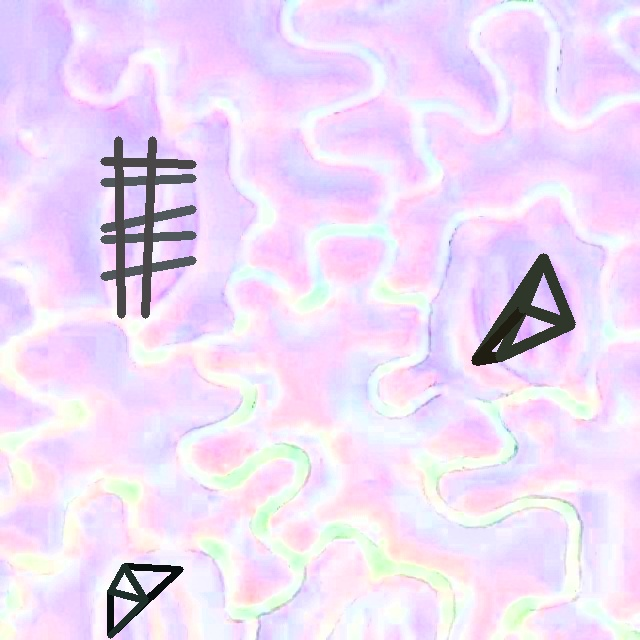open: (100, 137, 196, 318), (472, 254, 574, 361), (107, 563, 183, 638)
